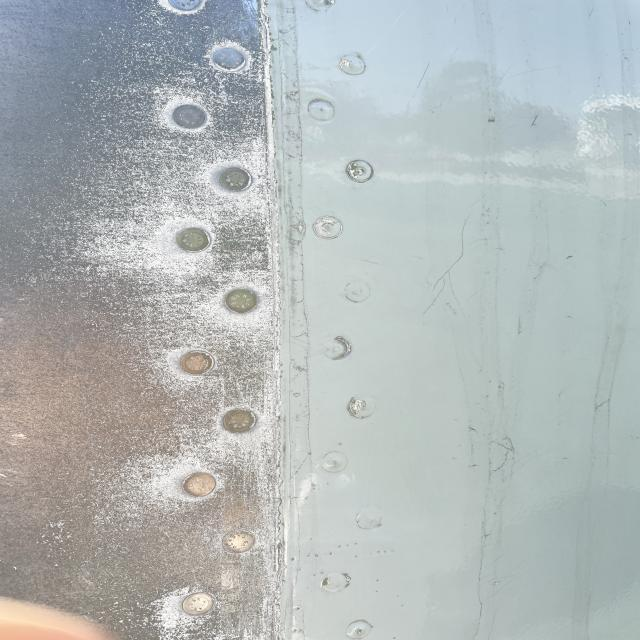crack: (419, 204, 477, 322), (475, 429, 524, 469)
